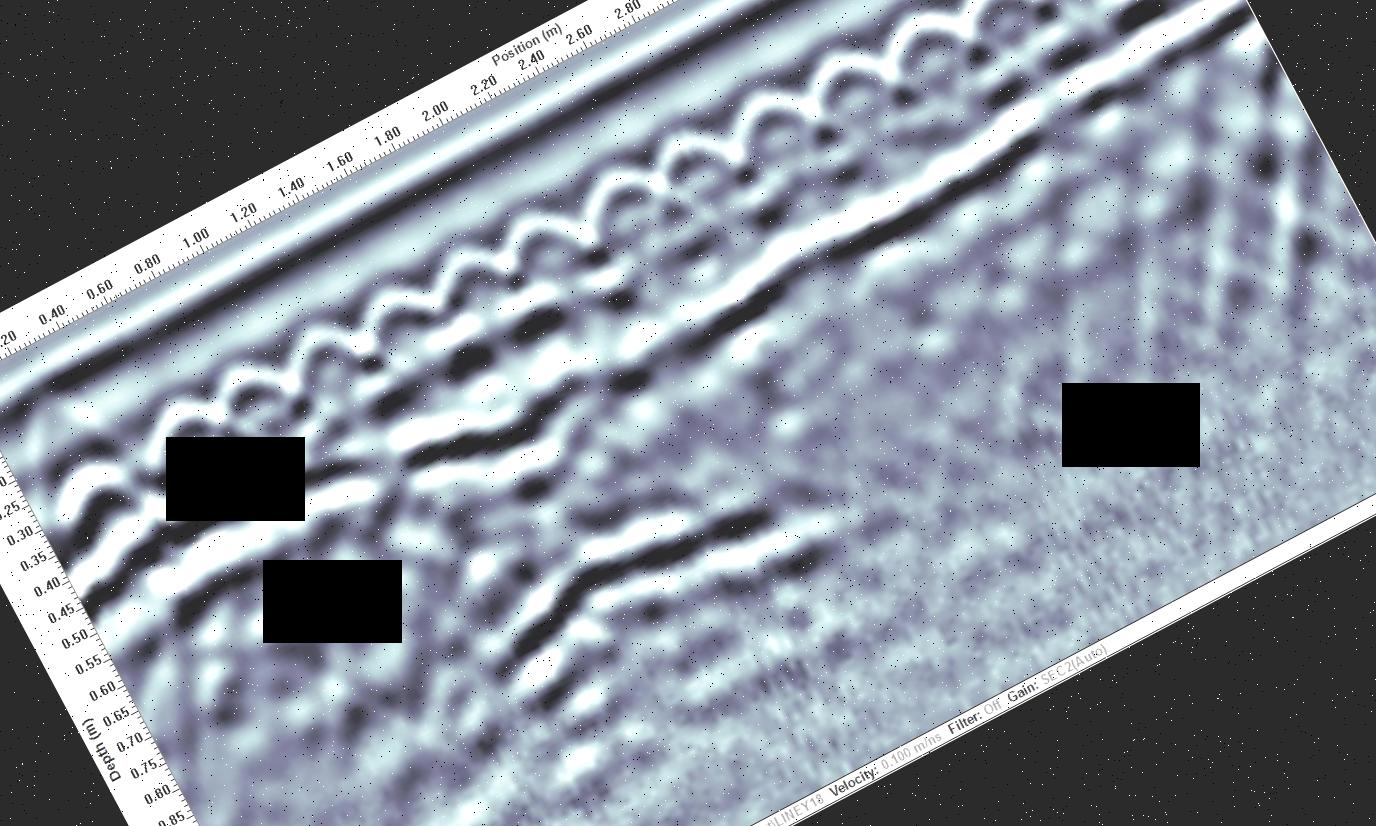Hyperbola: (148, 289, 390, 538), (577, 54, 811, 286), (526, 92, 748, 319), (224, 263, 446, 480), (663, 18, 879, 236), (98, 338, 308, 550), (308, 238, 514, 441), (733, 0, 953, 190), (390, 204, 587, 396), (822, 0, 1033, 157), (907, 0, 1112, 139), (988, 0, 1184, 100), (0, 357, 125, 485)
